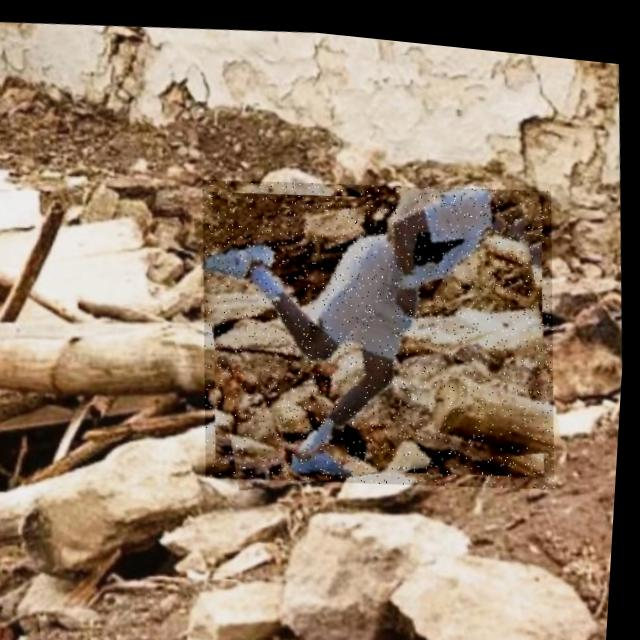Person in Rubble: (190, 150, 573, 501)
